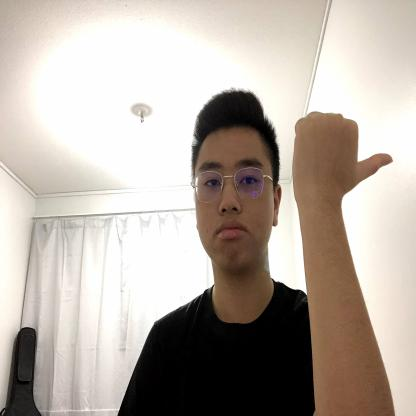left: (290, 103, 396, 209)
